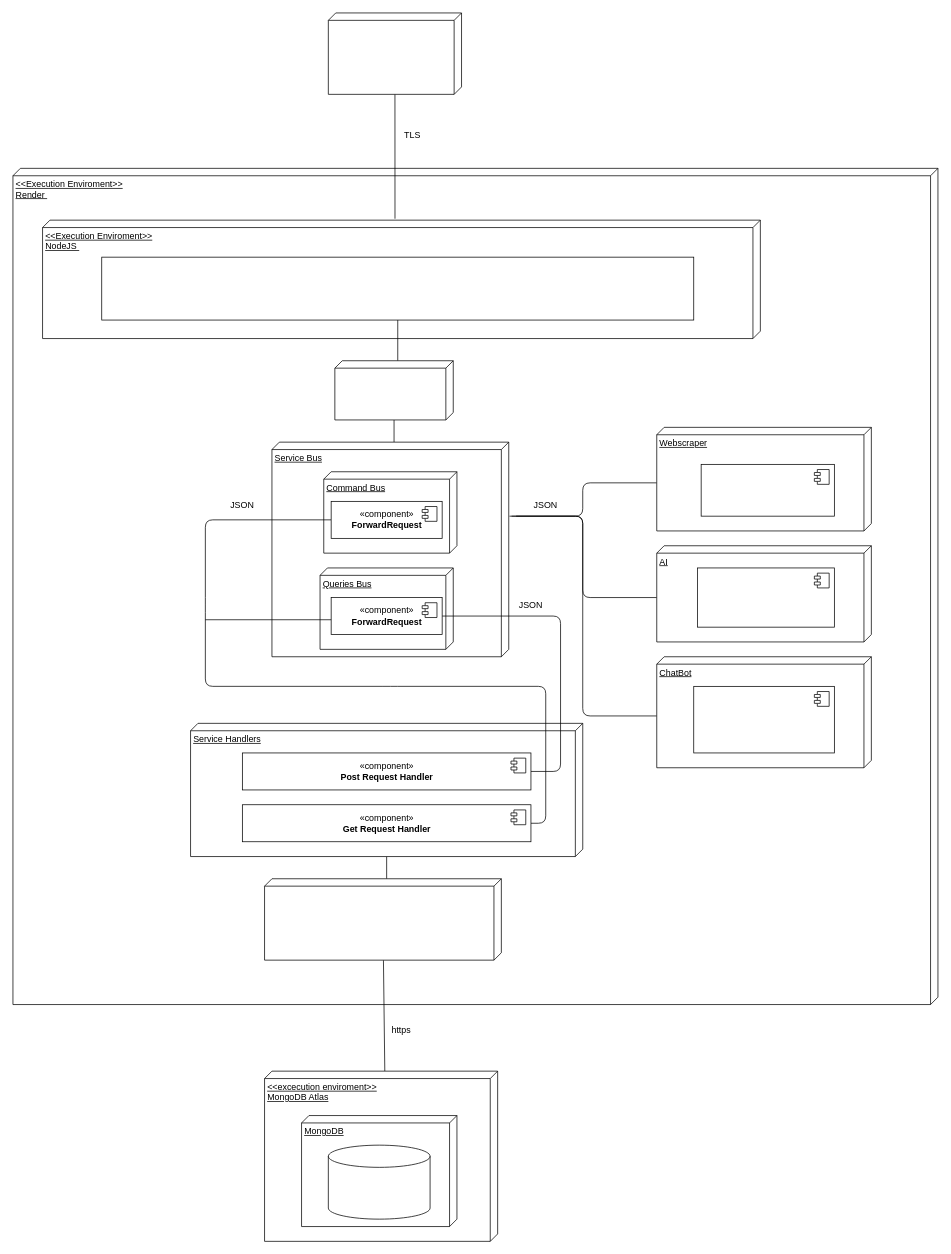
Image size: 951x1254. Some labels were removed from this diagram. Here are the shapes that lost their labels. From the top down, the centre of each, then its label:
At point 395,53: "<<device>> User Mobile Device".
At point 397,288: "Ionic-Angular UI".
At point 393,390: "User System API".
At point 767,490: "Scrape".
At point 765,597: "Analyze Images".
At point 763,719: "Agent".
At point 382,919: "Database Proxy".
At point 379,1181: "Estate-Match Database".
